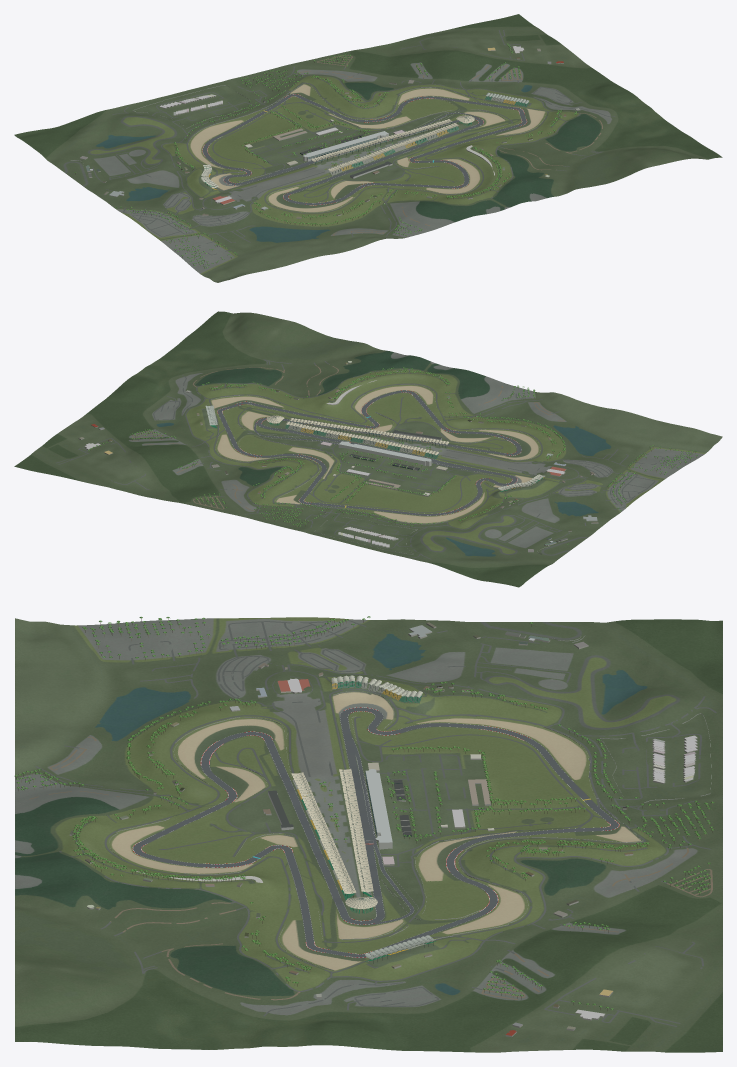
The model's file is sepang.glb.
3 renders of one model, top to bottom at view 1: azimuth 30°, elevation 25°; view 2: azimuth 150°, elevation 25°; view 3: azimuth 270°, elevation 25°, orthographic. The views are drawn at different scales.
Visible parts, largest first — view 1: Sepang_Copernicus_Terrain, Sepang_Mapped_Service_Roads, Sepang_Mapped_Palms, Sepang_Grand_Prix_16m, Sepang_Current_Footprint_Buildings_33_Garages, Sepang_Main_K1_F_Grandstands, Sepang_Mapped_Barriers; view 2: Sepang_Copernicus_Terrain, Sepang_Mapped_Service_Roads, Sepang_Mapped_Palms, Sepang_Grand_Prix_16m, Sepang_Current_Footprint_Buildings_33_Garages, Sepang_Main_K1_F_Grandstands, Sepang_Mapped_Barriers; view 3: Sepang_Copernicus_Terrain, Sepang_Mapped_Service_Roads, Sepang_Grand_Prix_16m, Sepang_Mapped_Palms, Sepang_Current_Footprint_Buildings_33_Garages, Sepang_Main_K1_F_Grandstands, Sepang_Mapped_Barriers, Sepang_Pit_Lane, Sepang_Red_White_Kerbs.
Part boxes in pixels (x1,y1,x2,y2): Sepang_Copernicus_Terrain: (14,14,722,282); Sepang_Mapped_Service_Roads: (92,30,615,255); Sepang_Mapped_Palms: (74,43,577,268); Sepang_Grand_Prix_16m: (202,94,526,204); Sepang_Current_Footprint_Buildings_33_Garages: (79,46,579,218); Sepang_Main_K1_F_Grandstands: (201,92,528,190); Sepang_Mapped_Barriers: (70,83,545,212); Sepang_Copernicus_Terrain: (14,311,722,587); Sepang_Mapped_Service_Roads: (56,359,663,559); Sepang_Mapped_Palms: (88,367,697,544); Sepang_Grand_Prix_16m: (217,390,521,515); Sepang_Current_Footprint_Buildings_33_Garages: (78,361,598,552); Sepang_Main_K1_F_Grandstands: (205,405,545,492); Sepang_Mapped_Barriers: (211,384,549,554); Sepang_Copernicus_Terrain: (15,617,722,1052); Sepang_Mapped_Service_Roads: (29,620,716,1026); Sepang_Grand_Prix_16m: (133,707,618,957); Sepang_Mapped_Palms: (14,616,714,1010); Sepang_Current_Footprint_Buildings_33_Garages: (69,622,697,1037); Sepang_Main_K1_F_Grandstands: (291,675,435,963); Sepang_Mapped_Barriers: (109,635,711,970); Sepang_Pit_Lane: (351,736,414,924); Sepang_Red_White_Kerbs: (132,707,619,957).
Size of the model in its own units: 2003 by 60.31 by 1402.
Materials: 13 (1 with a texture image).
